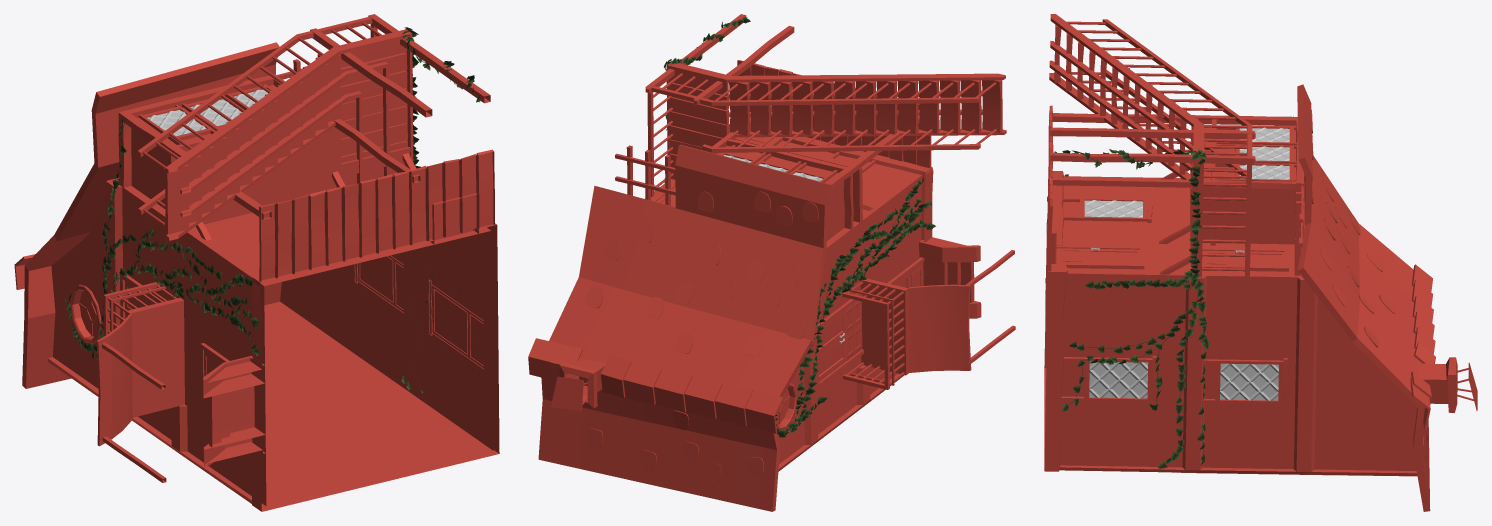
Rendered from littleHut.fbx.
3 renders of one model, left to right at view 1: azimuth 30°, elevation 25°; view 2: azimuth 150°, elevation 25°; view 3: azimuth 270°, elevation 25°, orthographic. The views are drawn at different scales.
Visible parts, largest first — view 1: Base, Ivy, Ivy 2; view 2: Base, Ivy; view 3: Base, Ivy 2.
Boxes of the visible parts, <box> form: Base: <box>14,14,499,511</box>; Ivy: <box>65,118,261,359</box>; Ivy 2: <box>401,27,481,400</box>; Base: <box>528,14,1015,511</box>; Ivy: <box>775,176,935,437</box>; Base: <box>1044,14,1477,511</box>; Ivy 2: <box>1054,149,1208,468</box>.
Size of the model in its own units: 333 by 335 by 376.
